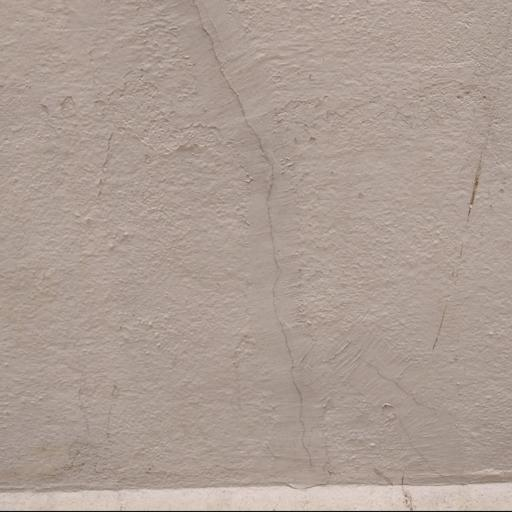minor_crack: (180, 1, 329, 490)
